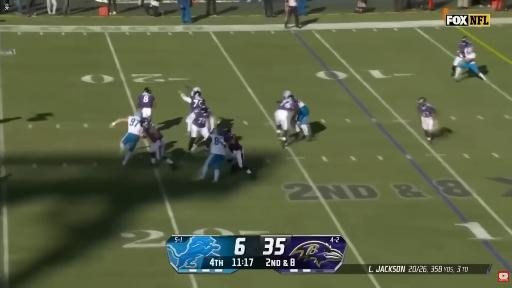Helmet: (142, 118, 152, 128), (216, 128, 226, 137), (283, 90, 293, 99), (192, 87, 201, 96), (464, 46, 473, 54), (462, 36, 469, 44), (200, 106, 208, 113), (143, 87, 151, 94), (135, 111, 142, 119), (223, 127, 231, 134), (418, 97, 426, 103), (288, 95, 294, 99)
Jersey: (144, 125, 163, 143), (210, 133, 225, 155), (225, 134, 242, 152), (193, 110, 210, 128), (128, 116, 142, 135), (190, 96, 206, 111), (418, 103, 435, 117), (278, 99, 297, 111), (138, 94, 154, 108), (464, 46, 475, 62), (458, 43, 467, 58), (297, 99, 305, 108)
Player: (110, 111, 142, 165), (200, 129, 225, 182), (275, 91, 298, 147), (143, 122, 172, 165), (225, 128, 251, 174), (181, 87, 206, 132), (455, 46, 486, 81), (188, 107, 210, 152), (418, 98, 436, 143), (452, 37, 470, 76), (296, 99, 312, 141), (138, 88, 155, 121)
